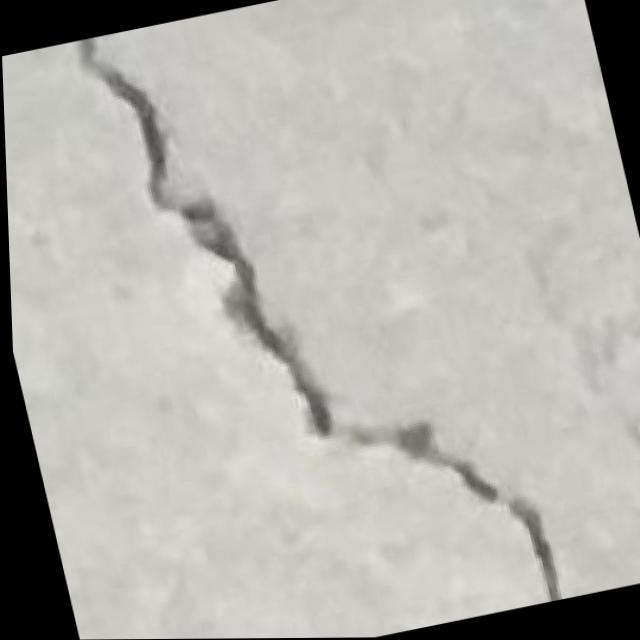Crack: (58, 0, 580, 640)
